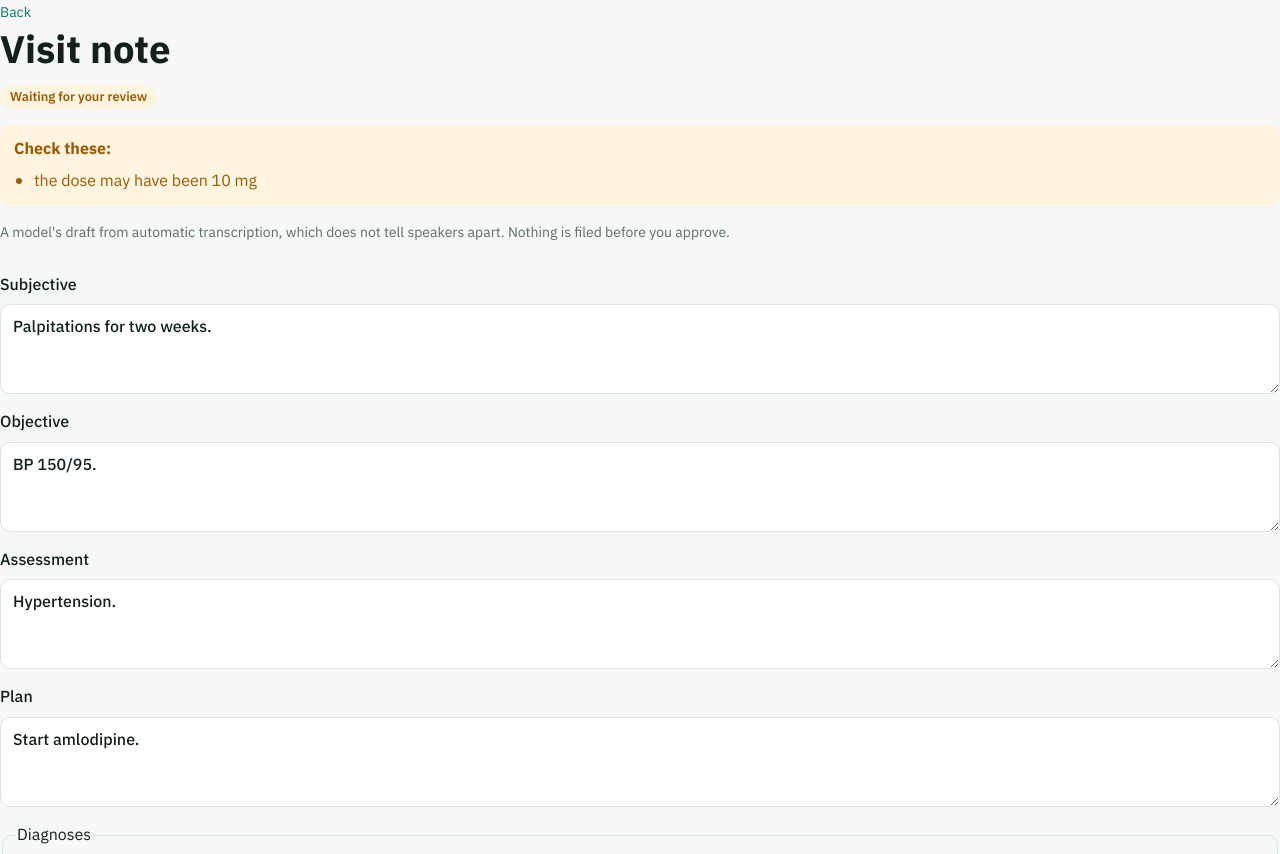
Test: shows the model's doubts and the transcript, and approves the doctor's edited note
The width and height of the screenshot is (1280, 854).
Expected: the list item "the dose may have been 10 mg" is shown, [34,169,257,193]
Replace the text in the text box labelled "Plan" with "Start amlodipine 10 mg.": (640, 762) [0,717,1279,807]
(page scrolled)
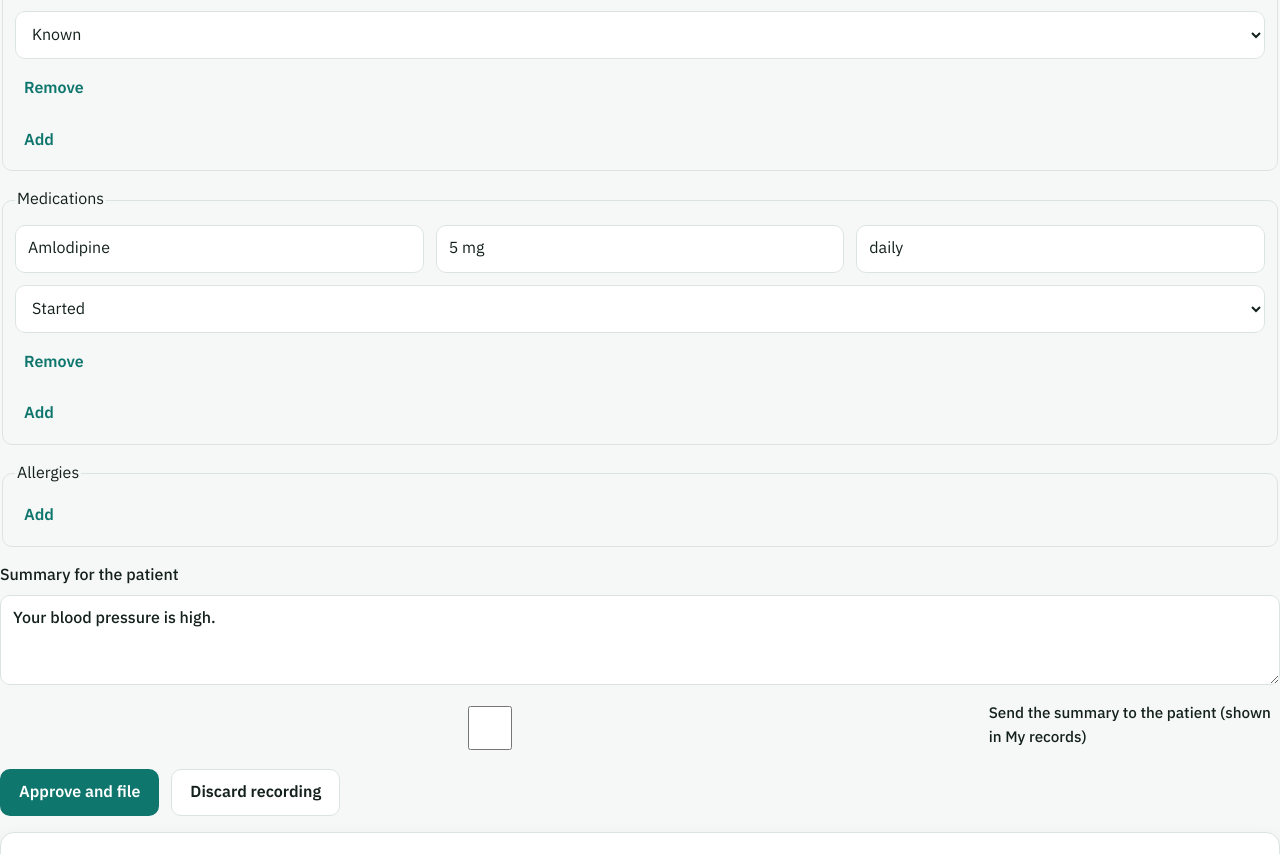
Click the checkbox labelled "Send the summary to the patient (shown in My records)": (490, 728) [4,706,976,750]
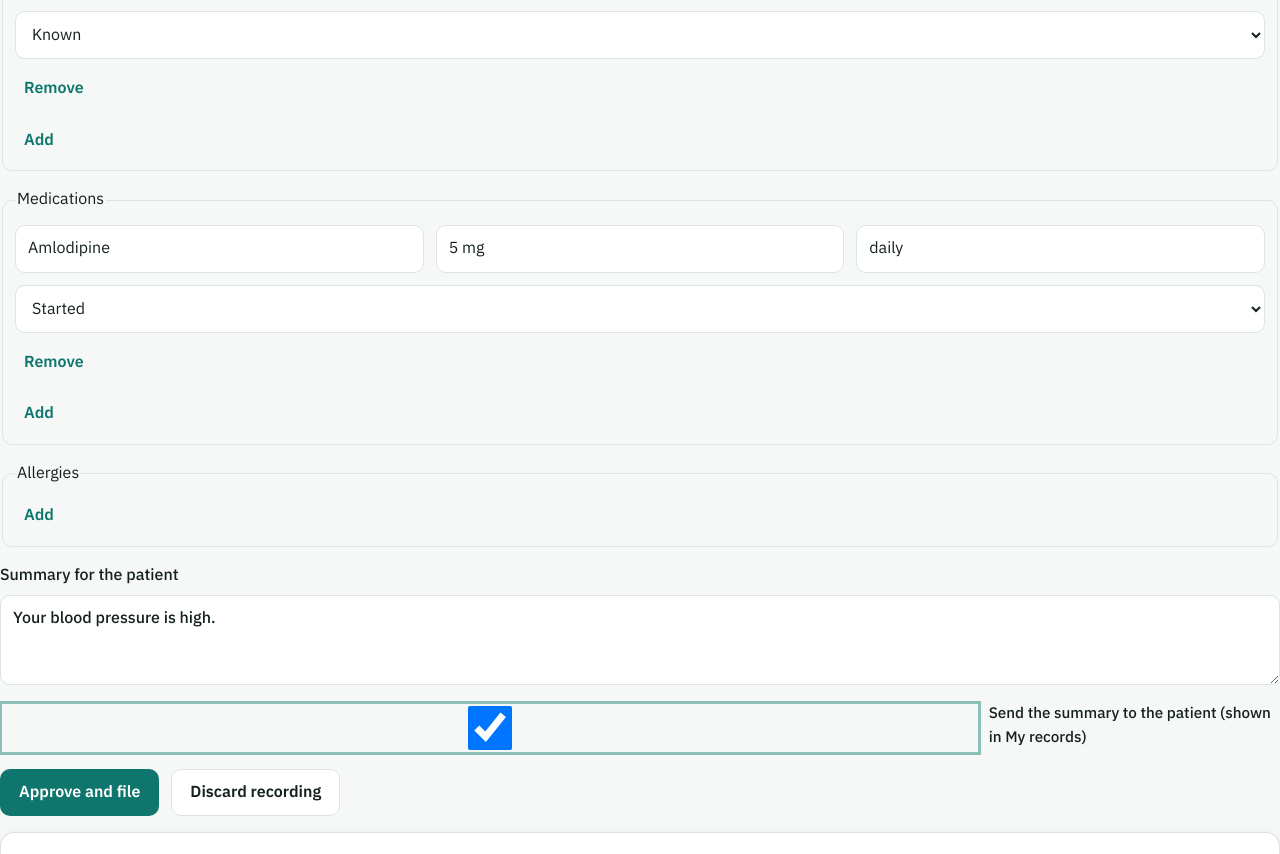
Click the button "Approve and file": (80, 792) [0,769,159,816]
(page scrolled)
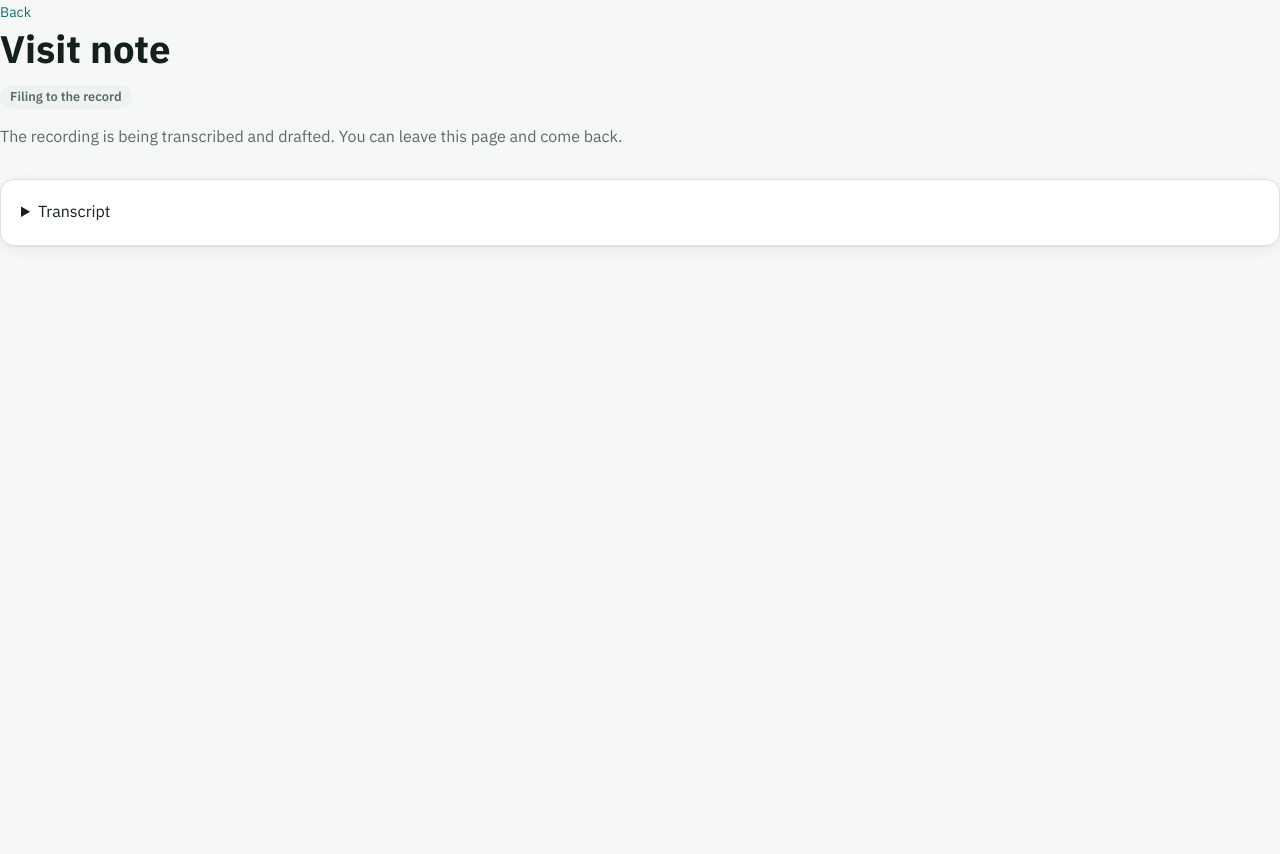
Expected: the text "Filing to the record" is shown, [0,84,132,109]
